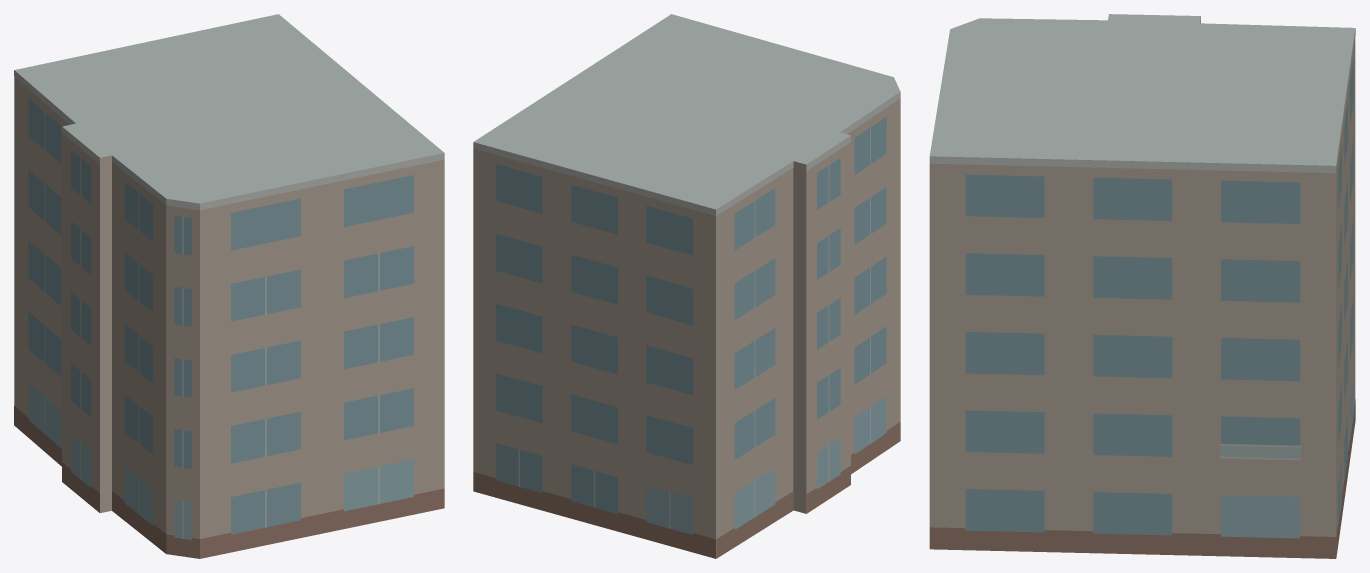
The model's file is survey-upis-32728552.glb.
The picture shows the model from 3 angles, left to right: view 1: azimuth 30°, elevation 25°; view 2: azimuth 150°, elevation 25°; view 3: azimuth 270°, elevation 25°; orthographic projection. The views are drawn at different scales.
Visible parts, largest first — view 1: survey-upis-32728552.tmp; view 2: survey-upis-32728552.tmp; view 3: survey-upis-32728552.tmp.
Part boxes in pixels (box(x1,y1,x2,y2)): survey-upis-32728552.tmp: box(14, 14, 444, 558); survey-upis-32728552.tmp: box(473, 14, 900, 558); survey-upis-32728552.tmp: box(929, 14, 1355, 558).
Size of the model in its own units: 10.78 by 13 by 12.78.
